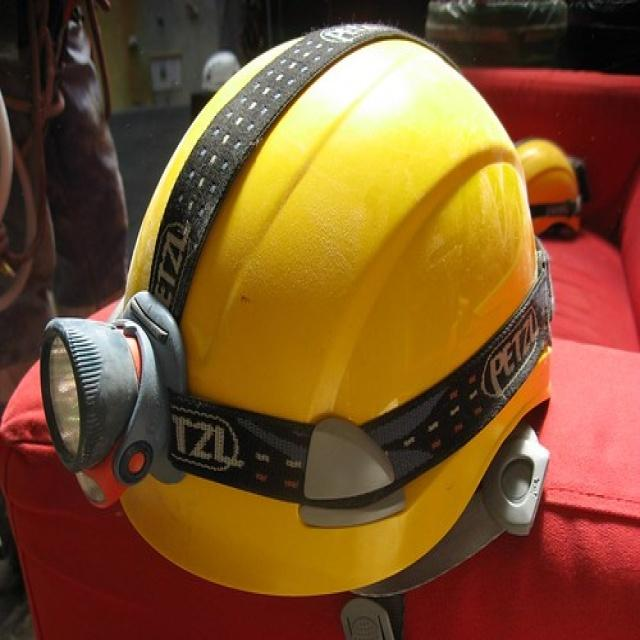helmet: (94, 19, 571, 640), (508, 173, 582, 324), (200, 64, 241, 123)
